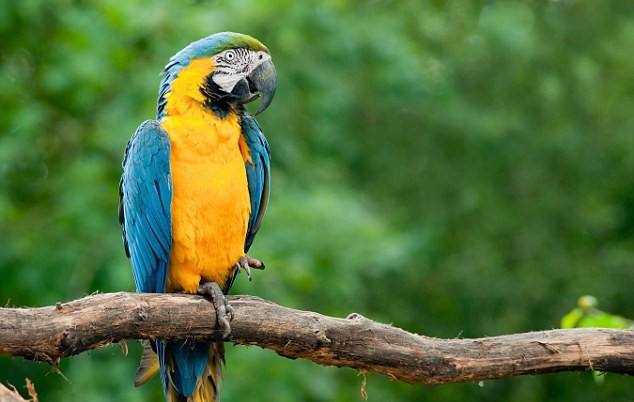bird: (116, 28, 281, 292)
